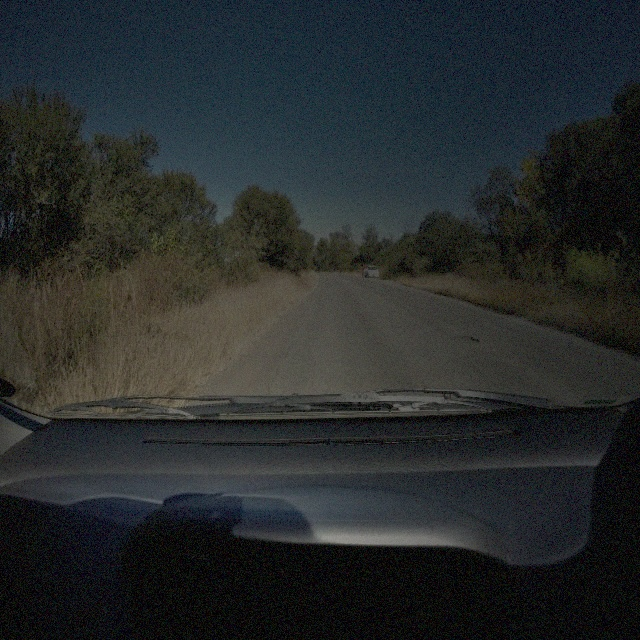pothole: (453, 330, 478, 343)
